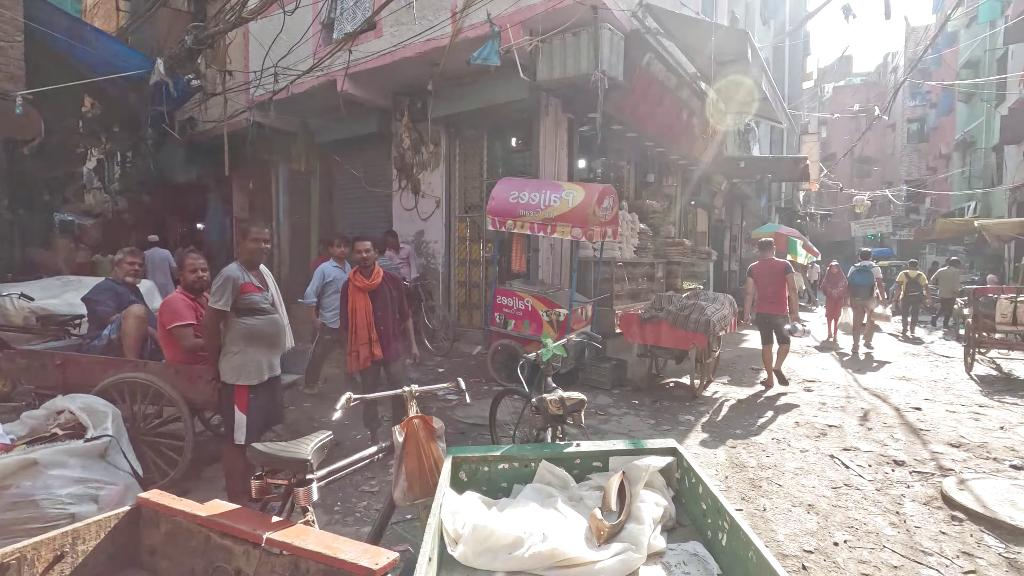garbage: (392, 407, 446, 510)
